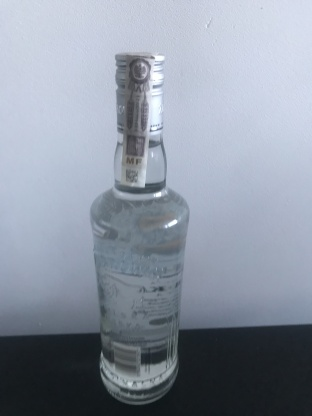nakretka: (111, 46, 168, 138)
